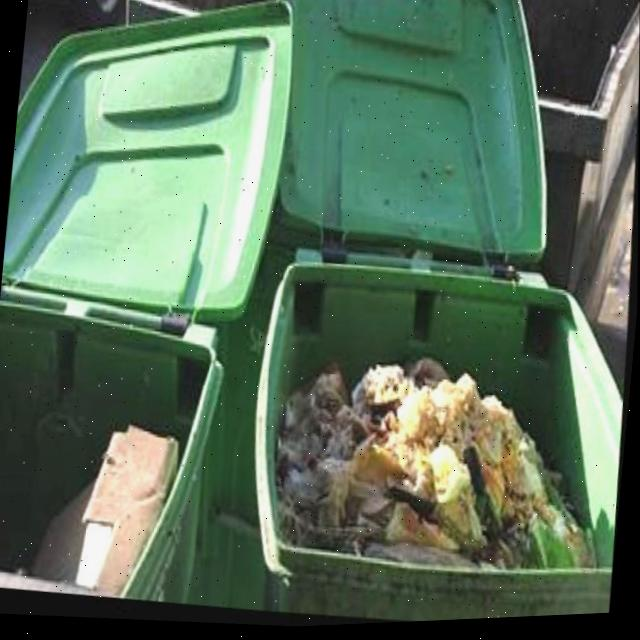Garbage: (276, 363, 596, 574)
